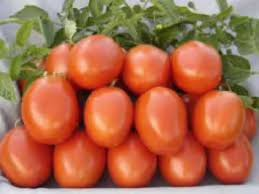tomato: (18, 63, 65, 136), (64, 34, 122, 89), (134, 86, 184, 149), (80, 90, 131, 150), (188, 93, 242, 143), (127, 43, 166, 87)
